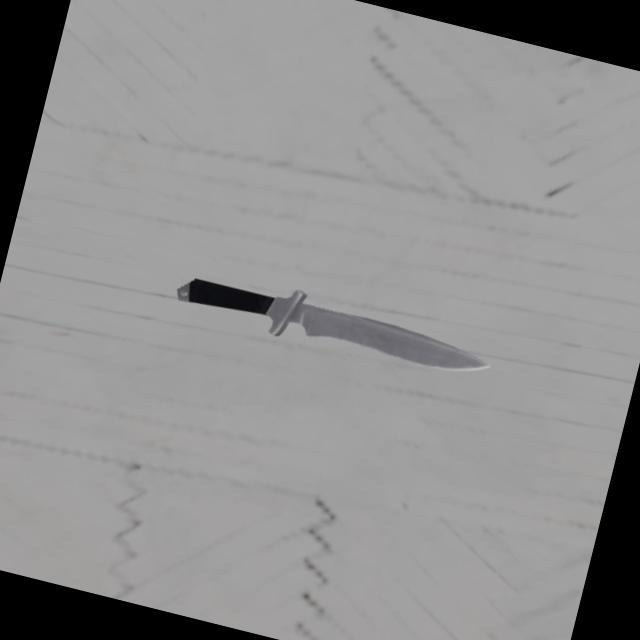knife: (160, 269, 278, 324)
